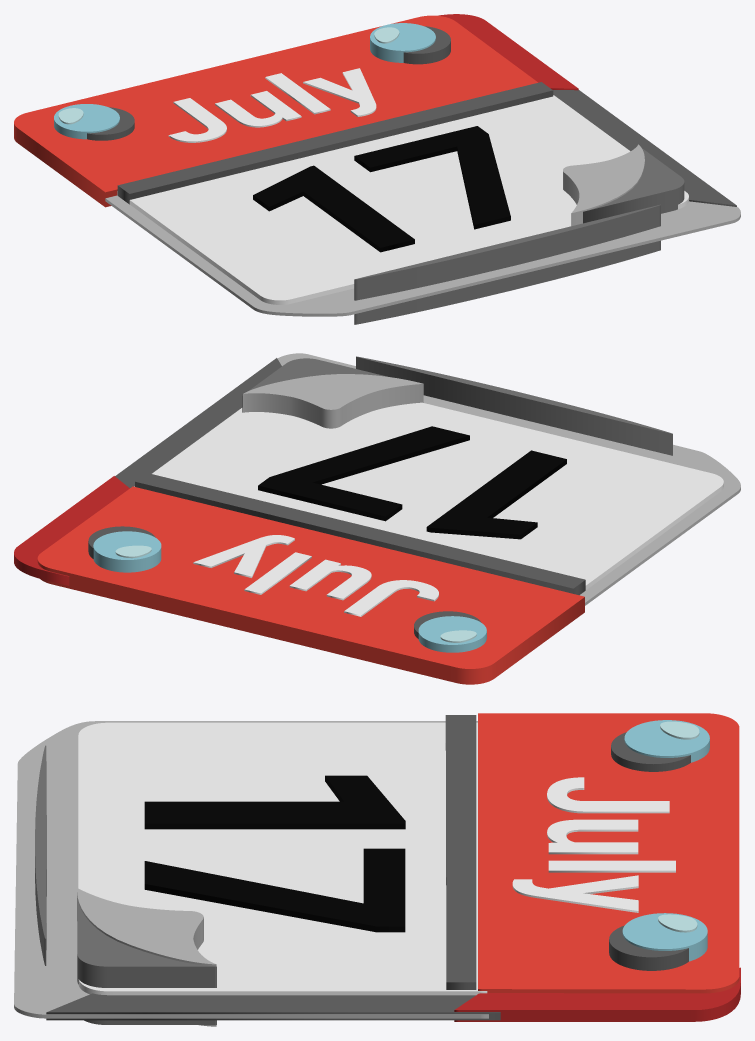
Rendered from emoji_u1f4c6.glb.
3 renders of one model, top to bottom at view 1: azimuth 30°, elevation 25°; view 2: azimuth 150°, elevation 25°; view 3: azimuth 270°, elevation 25°, orthographic. The views are drawn at different scales.
Parts seen in each view (by area): view 1: emoji_u1f4c6; view 2: emoji_u1f4c6; view 3: emoji_u1f4c6.
Part boxes in pixels (x1=…): emoji_u1f4c6: x1=14, y1=14, x2=740, y2=324; emoji_u1f4c6: x1=14, y1=353, x2=740, y2=684; emoji_u1f4c6: x1=14, y1=713, x2=740, y2=1026.
Bounding box in the file's own units: 0.0323 × 0.0032 × 0.0338.
